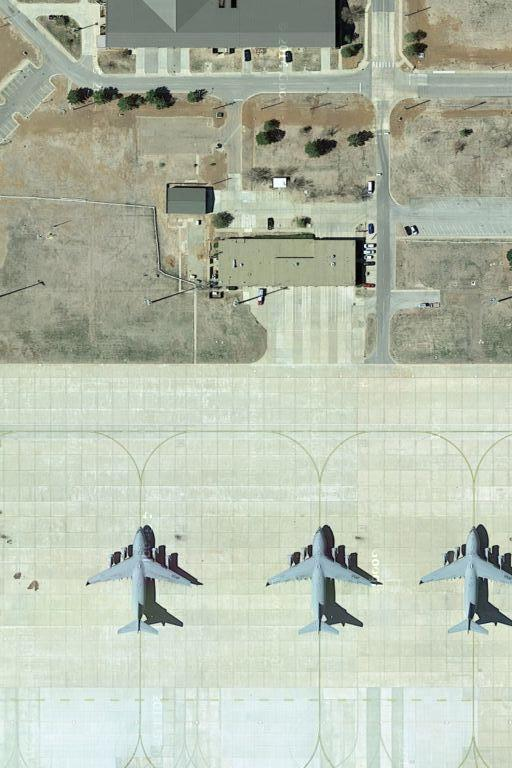C-17: (264, 523, 382, 643), (86, 520, 200, 642), (416, 524, 510, 642)
